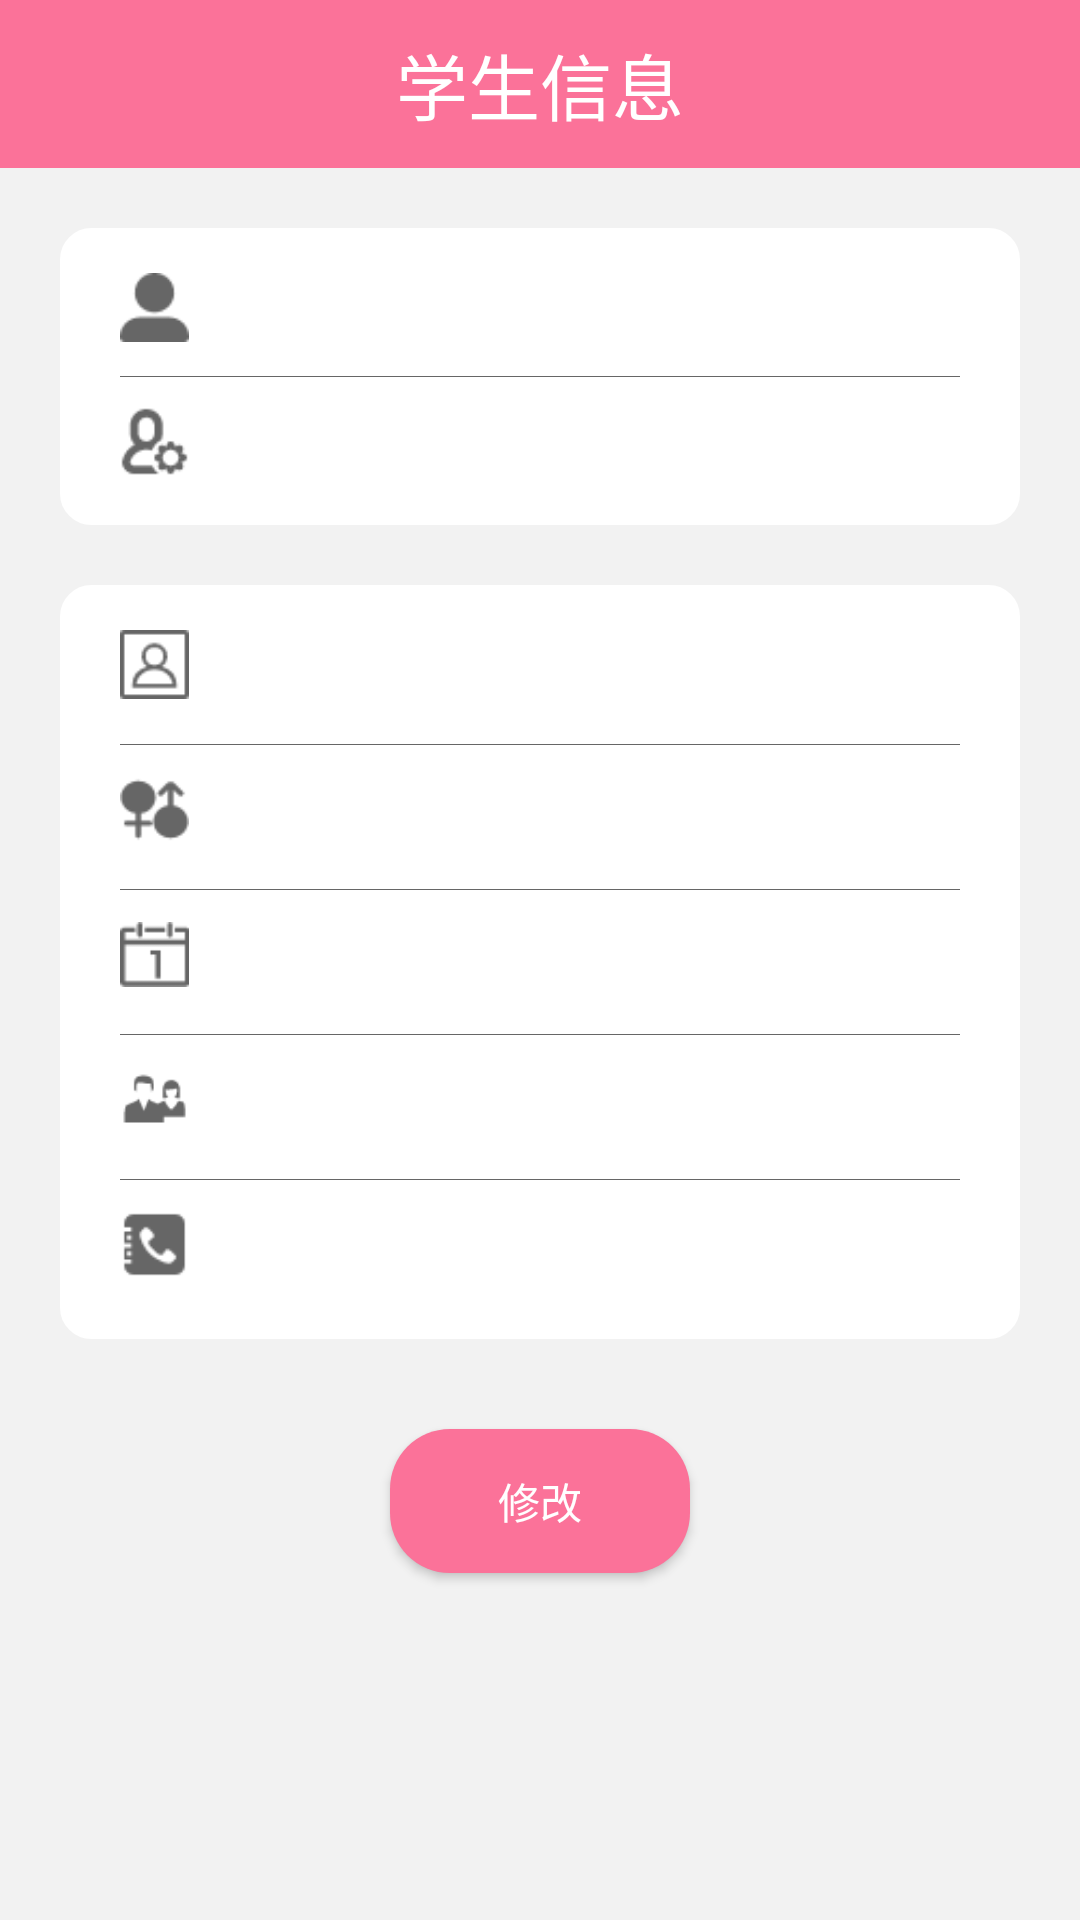

Where icons sit on this 1080x1920 app screen, as (x1, y1, x2, y2):
showage: (120, 922, 189, 987)
showcontact: (124, 1214, 185, 1275)
showparents: (123, 1074, 186, 1123)
showsex: (120, 780, 189, 839)
showteachername: (120, 630, 189, 699)
showusername: (120, 273, 189, 342)
